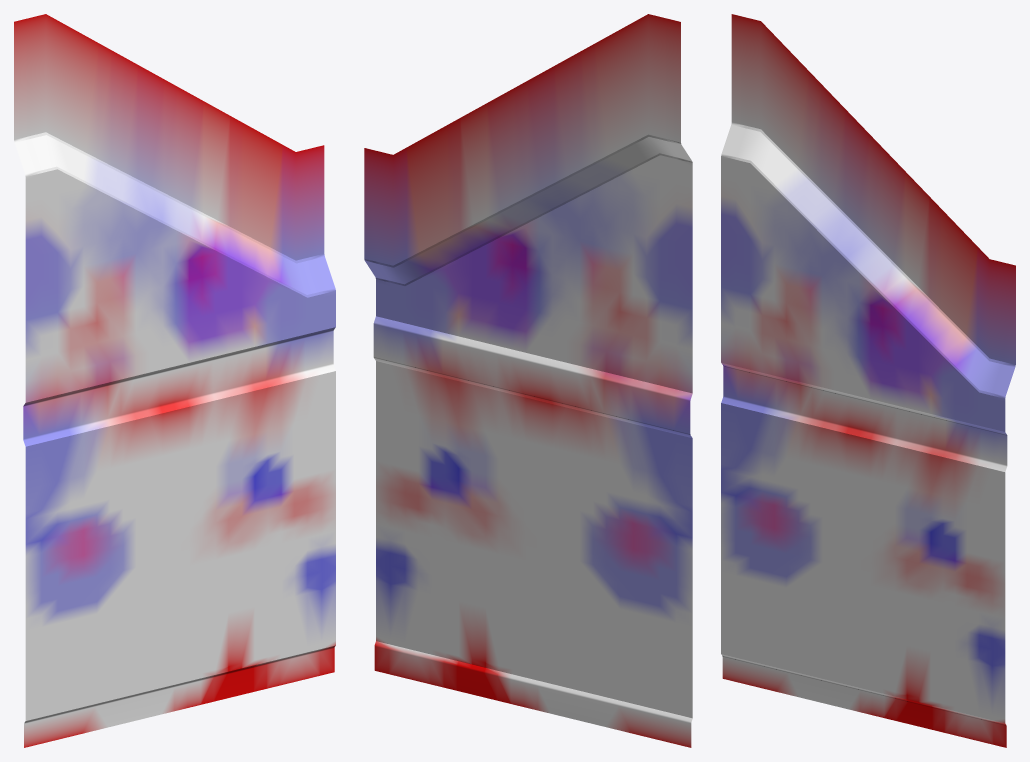
3 renders of one model, left to right at view 1: azimuth 30°, elevation 25°; view 2: azimuth 150°, elevation 25°; view 3: azimuth 330°, elevation 25°, orthographic. The views are drawn at different scales.
Visible parts, largest first — view 1: SM_Platform_Wall_Large_02_LOD0; view 2: SM_Platform_Wall_Large_02_LOD0; view 3: SM_Platform_Wall_Large_02_LOD0.
Boxes of the visible parts, left/top/right/bottom form: SM_Platform_Wall_Large_02_LOD0: left=14, top=14, right=335, bottom=747; SM_Platform_Wall_Large_02_LOD0: left=364, top=14, right=692, bottom=747; SM_Platform_Wall_Large_02_LOD0: left=721, top=14, right=1015, bottom=747.
Size of the model in its own units: 500 by 32.32 by 1106.
